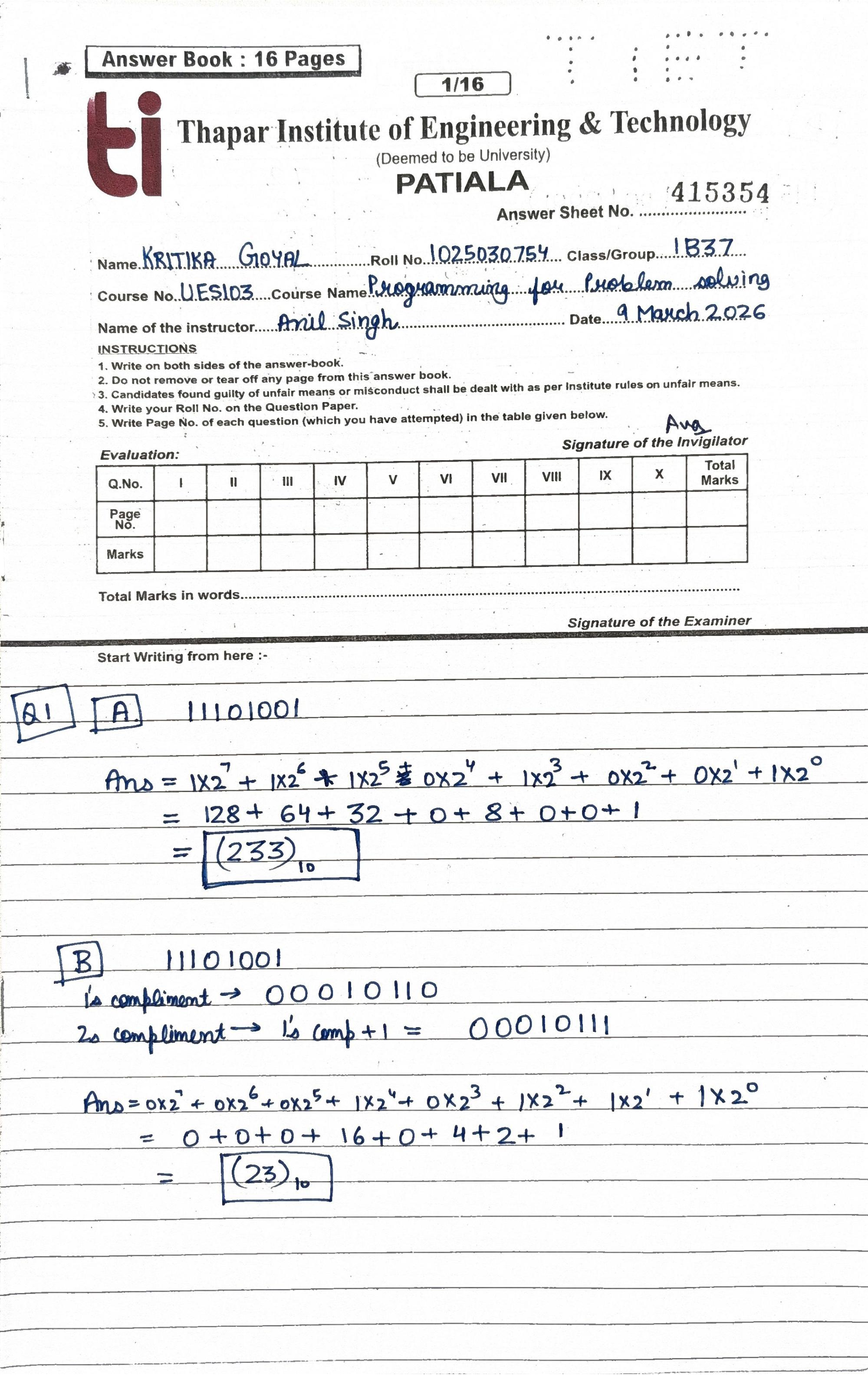cuttings: (394, 769, 413, 786)
